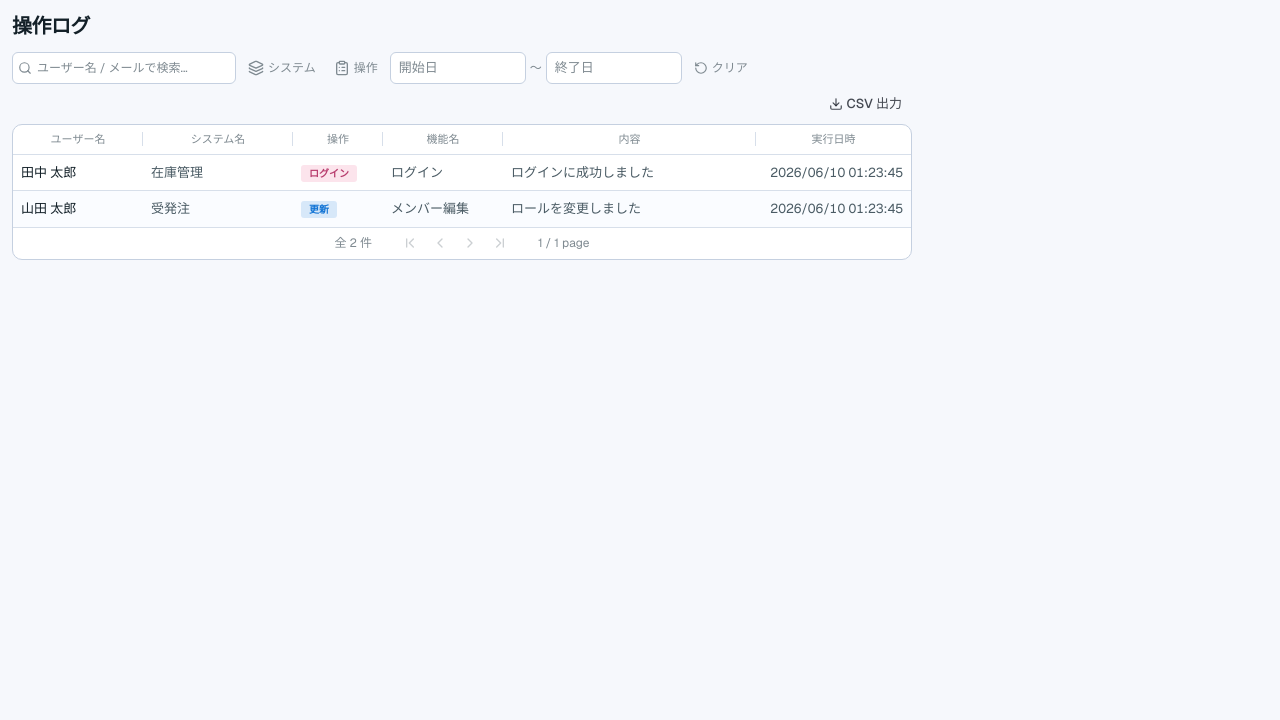
Test case: AuditLogScreen › CSV 期間が上限内ならダウンロード可能・出力日数を表示（set-0092）
The width and height of the screenshot is (1280, 720).
Click the button "CSV 出力" at point(865, 104), box [819,88,912,120]
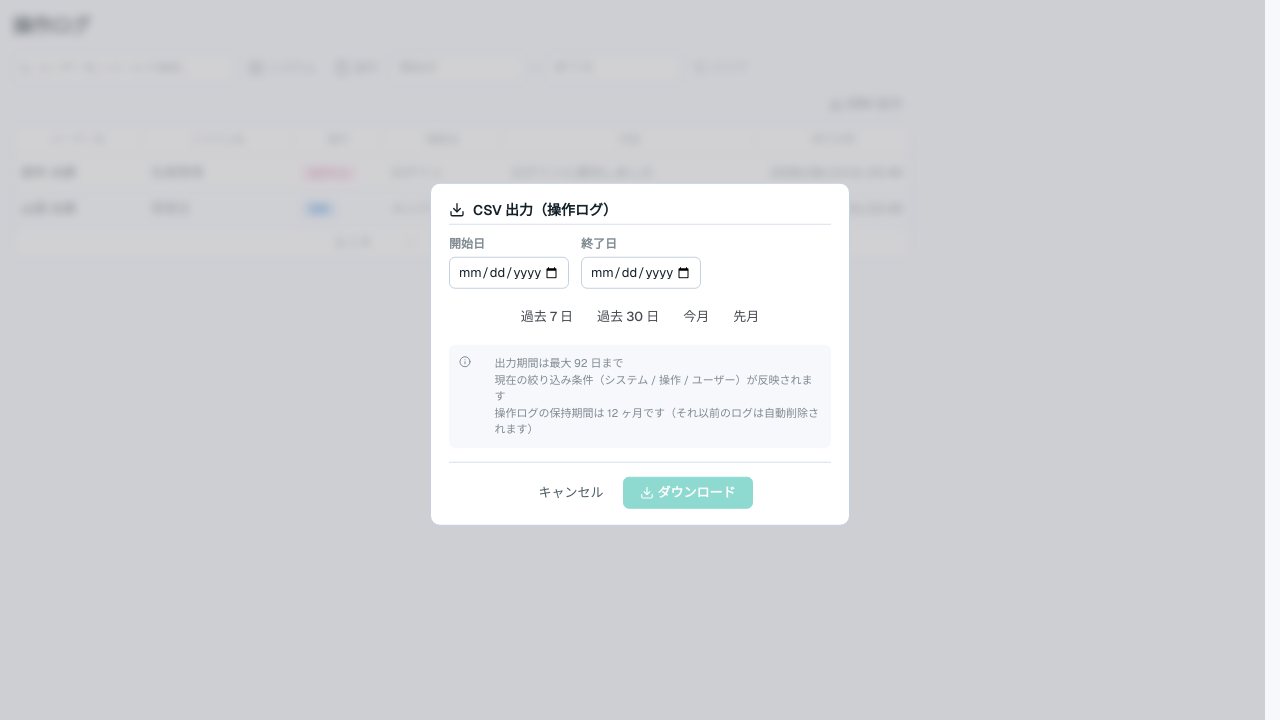
Type "2026-06-01" into the date field named "出力開始日" at point(509, 273), box [449,257,569,289]
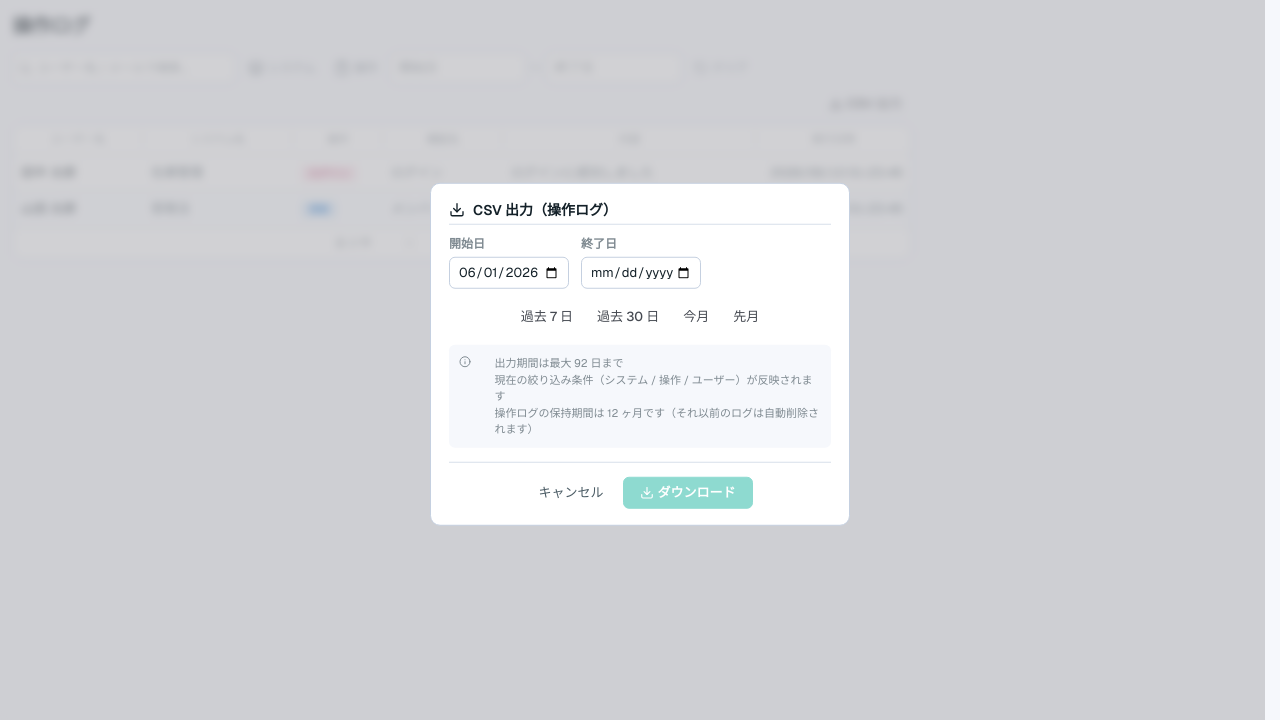
Type "2026-06-10" into the date field named "出力終了日" at point(641, 273), box [581,257,701,289]
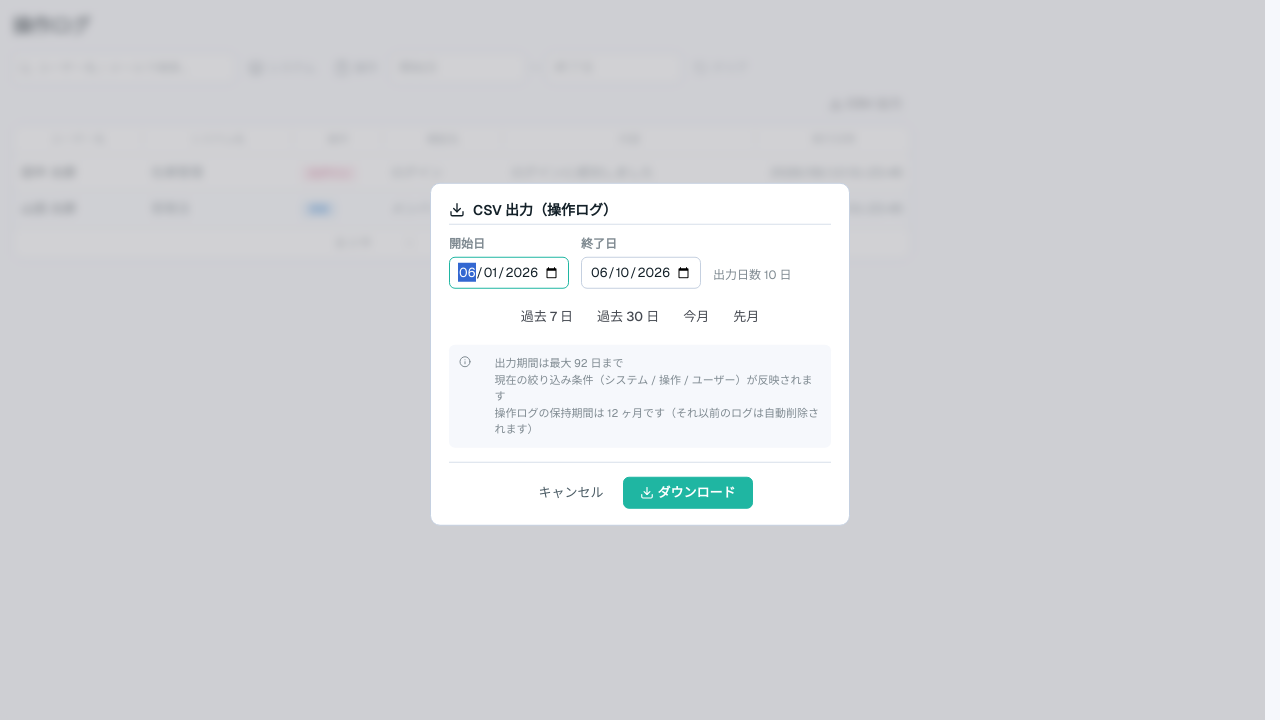
Expected: the text "出力日数 10 日" is shown, [713,267,792,289]
Expected: the button "ダウンロード" is enabled, [622,476,752,508]
